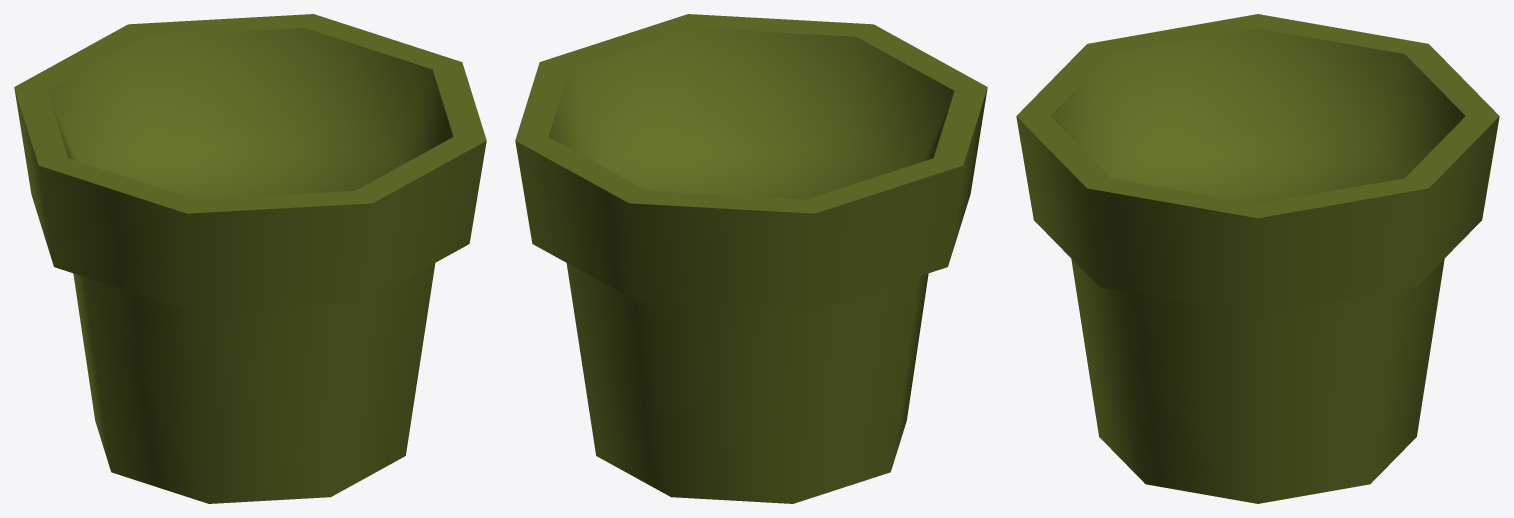
The model's file is SM_Pot_01.fbx.
The picture shows the model from 3 angles, left to right: view 1: azimuth 30°, elevation 25°; view 2: azimuth 150°, elevation 25°; view 3: azimuth 270°, elevation 25°; orthographic projection.
Visible parts, largest first — view 1: pot; view 2: pot; view 3: pot.
Part boxes in pixels (bbox=[...]): pot: bbox=[14, 14, 486, 503]; pot: bbox=[515, 14, 987, 503]; pot: bbox=[1016, 14, 1499, 503].
Size of the model in its own units: 59.57 by 59.57 by 43.6.
